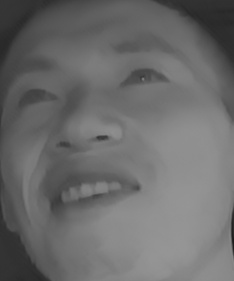eye: (118, 58, 170, 97), (15, 82, 65, 117)
mouth: (43, 161, 146, 220)
